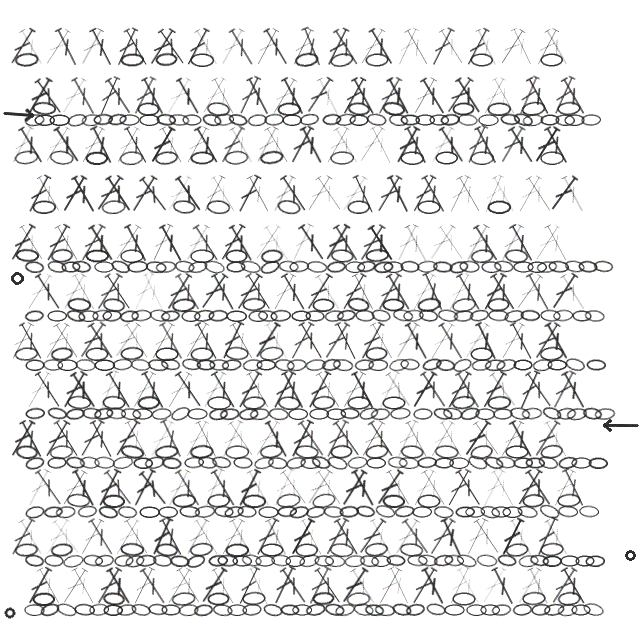chain: (311, 491, 337, 510), (329, 51, 355, 69), (276, 198, 302, 216), (451, 296, 477, 314), (119, 443, 145, 461), (469, 443, 494, 461), (416, 296, 442, 313), (364, 443, 390, 460), (169, 404, 192, 423), (466, 453, 489, 472), (538, 502, 561, 521), (294, 51, 319, 68), (381, 100, 406, 117), (521, 100, 546, 117), (14, 149, 39, 166), (49, 149, 74, 166), (259, 149, 284, 166), (346, 296, 371, 313), (259, 345, 284, 362), (451, 394, 476, 411), (259, 443, 284, 460), (539, 443, 564, 460), (276, 492, 301, 509), (189, 541, 214, 558), (364, 541, 389, 558), (109, 258, 132, 276), (451, 356, 474, 374), (326, 454, 349, 472), (455, 552, 478, 570), (55, 601, 78, 619), (206, 101, 231, 117), (119, 150, 144, 166), (154, 150, 179, 166), (101, 199, 126, 215), (206, 199, 231, 215), (504, 248, 529, 264), (171, 297, 196, 313), (14, 346, 39, 362), (49, 444, 74, 460), (154, 444, 179, 460), (294, 444, 319, 460), (434, 444, 459, 460), (14, 542, 39, 558), (329, 542, 354, 558), (399, 542, 424, 558), (171, 591, 196, 607), (346, 591, 371, 607), (259, 258, 281, 276), (483, 454, 505, 472), (185, 552, 207, 570), (298, 552, 321, 569), (582, 601, 605, 618), (347, 101, 371, 117), (172, 199, 196, 215), (260, 248, 284, 264), (330, 248, 354, 264), (470, 248, 494, 264), (102, 297, 126, 313), (50, 346, 74, 362), (242, 395, 266, 411), (277, 395, 301, 411), (15, 444, 39, 460), (400, 444, 424, 460), (50, 542, 74, 558), (155, 542, 179, 558), (505, 542, 529, 558), (102, 591, 126, 607), (14, 52, 39, 67), (224, 150, 249, 165), (539, 346, 564, 361), (189, 444, 214, 459), (66, 493, 91, 508), (512, 111, 534, 128), (421, 356, 443, 373), (564, 356, 586, 373), (358, 405, 380, 422), (459, 405, 481, 422), (541, 405, 563, 422), (310, 454, 332, 471), (537, 454, 559, 471), (374, 503, 396, 520), (39, 601, 61, 618), (203, 259, 226, 275), (239, 259, 262, 275), (495, 357, 518, 373), (516, 504, 539, 520), (62, 553, 85, 569), (32, 101, 56, 116), (557, 101, 581, 116), (15, 248, 39, 263), (50, 248, 74, 263), (365, 248, 389, 263), (67, 297, 91, 312), (242, 297, 266, 312), (120, 346, 144, 361), (225, 346, 249, 361), (67, 395, 91, 410), (102, 395, 126, 410), (487, 395, 511, 410), (172, 493, 196, 508), (557, 493, 581, 508), (120, 542, 144, 557), (540, 542, 564, 557), (242, 591, 266, 606), (522, 591, 546, 606), (557, 591, 581, 606), (66, 112, 88, 128), (201, 112, 223, 128), (227, 112, 249, 128), (46, 259, 68, 275), (187, 259, 209, 275), (448, 259, 470, 275), (65, 308, 87, 324), (503, 308, 525, 324), (388, 357, 410, 373), (432, 406, 454, 422), (24, 455, 46, 471), (253, 455, 275, 471), (285, 455, 307, 471), (24, 504, 46, 520), (97, 504, 119, 520), (223, 504, 245, 520), (288, 504, 310, 520), (305, 504, 327, 520), (479, 504, 501, 520), (124, 553, 146, 569), (130, 602, 152, 618), (262, 602, 284, 618), (334, 602, 356, 618), (155, 52, 178, 67), (487, 297, 510, 312), (365, 346, 388, 361), (137, 395, 160, 410), (312, 395, 335, 410), (330, 444, 353, 459), (207, 493, 230, 508), (522, 493, 545, 508), (312, 591, 335, 606), (120, 53, 144, 67), (190, 53, 214, 67), (365, 53, 389, 67), (277, 102, 301, 116), (487, 102, 511, 116), (190, 151, 214, 165), (330, 151, 354, 165), (400, 151, 424, 165), (470, 151, 494, 165), (540, 151, 564, 165), (32, 200, 56, 214), (417, 200, 441, 214), (487, 200, 511, 214), (85, 249, 109, 263), (120, 249, 144, 263), (190, 249, 214, 263), (85, 347, 109, 361), (155, 347, 179, 361), (190, 347, 214, 361), (207, 396, 231, 410), (347, 396, 371, 410), (382, 396, 406, 410), (225, 445, 249, 459), (505, 445, 529, 459), (242, 494, 266, 508), (417, 494, 441, 508), (225, 543, 249, 557), (260, 543, 284, 557), (452, 592, 476, 606), (335, 112, 357, 127), (149, 308, 171, 323), (193, 308, 215, 323), (370, 308, 392, 323), (392, 308, 414, 323), (437, 308, 459, 323), (46, 406, 68, 421), (509, 406, 531, 421), (112, 455, 134, 470), (557, 455, 579, 470), (194, 504, 216, 519), (476, 553, 498, 568), (496, 553, 518, 568), (391, 602, 413, 617), (425, 602, 447, 617), (543, 602, 565, 617), (470, 53, 493, 67), (540, 53, 563, 67), (137, 102, 160, 116), (452, 102, 475, 116), (85, 151, 108, 165), (435, 151, 458, 165), (347, 200, 370, 214), (225, 249, 248, 263), (312, 298, 335, 312), (382, 298, 405, 312), (470, 347, 493, 361), (102, 494, 125, 508), (382, 494, 405, 508), (295, 543, 318, 557), (32, 592, 55, 606), (207, 592, 230, 606), (107, 112, 128, 127), (299, 112, 320, 127), (366, 112, 387, 127), (71, 259, 92, 274), (174, 259, 195, 274), (356, 259, 377, 274), (493, 259, 514, 274), (564, 259, 585, 274), (336, 308, 357, 323), (418, 308, 439, 323), (469, 308, 490, 323), (160, 357, 181, 372), (181, 357, 202, 372), (321, 357, 342, 372), (93, 406, 114, 421), (442, 406, 463, 421), (582, 406, 603, 421), (65, 455, 86, 470), (144, 455, 165, 470), (197, 455, 218, 470), (211, 455, 232, 470), (347, 455, 368, 470), (495, 455, 516, 470), (77, 504, 98, 519), (355, 504, 376, 519), (394, 504, 415, 519), (24, 553, 45, 568), (94, 553, 115, 568), (152, 553, 173, 568), (241, 553, 262, 568), (417, 553, 438, 568), (433, 553, 454, 568), (529, 553, 550, 568), (305, 602, 326, 617), (324, 602, 345, 617), (353, 602, 374, 617), (405, 602, 426, 617), (168, 113, 190, 127), (522, 113, 544, 127), (145, 260, 167, 274), (155, 260, 177, 274), (306, 260, 328, 274), (536, 260, 558, 274), (147, 358, 169, 372), (305, 358, 327, 372), (332, 358, 354, 372), (484, 358, 506, 372), (120, 407, 142, 421), (566, 407, 588, 421), (594, 407, 616, 421), (398, 456, 420, 470), (324, 554, 346, 568), (344, 554, 366, 568), (374, 603, 396, 617), (24, 113, 45, 127), (81, 113, 102, 127), (247, 113, 268, 127), (388, 113, 409, 127), (457, 113, 478, 127), (24, 260, 45, 274), (326, 260, 347, 274), (373, 260, 394, 274), (432, 260, 453, 274), (24, 309, 45, 323), (119, 309, 140, 323), (160, 309, 181, 323), (257, 309, 278, 323), (324, 309, 345, 323), (453, 309, 474, 323), (584, 309, 605, 323), (75, 358, 96, 372), (130, 358, 151, 372), (221, 358, 242, 372), (242, 358, 263, 372), (274, 358, 295, 372), (286, 358, 307, 372), (354, 358, 375, 372), (435, 358, 456, 372), (471, 358, 492, 372), (532, 358, 553, 372), (65, 407, 86, 421), (151, 407, 172, 421), (208, 407, 229, 421), (219, 407, 240, 421), (238, 407, 259, 421), (249, 407, 270, 421), (268, 407, 289, 421), (370, 407, 391, 421), (161, 456, 182, 470), (267, 456, 288, 470), (43, 505, 64, 519), (55, 505, 76, 519), (117, 505, 138, 519), (323, 505, 344, 519), (433, 505, 454, 519), (169, 554, 190, 568), (359, 554, 380, 568), (518, 554, 539, 568), (116, 603, 137, 617), (178, 603, 199, 617), (193, 603, 214, 617), (212, 603, 233, 617), (364, 603, 385, 617), (491, 603, 512, 617), (557, 603, 578, 617), (521, 407, 543, 420), (135, 554, 157, 567), (127, 260, 148, 273), (278, 260, 299, 273), (417, 260, 438, 273), (459, 260, 480, 273), (548, 260, 569, 273), (593, 260, 614, 273), (131, 309, 152, 322), (270, 309, 291, 322), (403, 309, 424, 322), (488, 309, 509, 322), (540, 309, 561, 322), (112, 358, 133, 371), (390, 407, 411, 420), (556, 407, 577, 420), (79, 456, 100, 469), (94, 456, 115, 469), (387, 456, 408, 469), (179, 505, 200, 518), (217, 554, 238, 567), (407, 554, 428, 567), (74, 603, 95, 616), (512, 603, 533, 616), (93, 113, 113, 126), (156, 113, 176, 126), (214, 113, 234, 126), (264, 113, 284, 126), (322, 113, 342, 126), (440, 113, 460, 126), (500, 113, 520, 126), (289, 260, 309, 273), (400, 260, 420, 273), (578, 260, 598, 273), (92, 309, 112, 322), (102, 309, 122, 322), (208, 309, 228, 322), (355, 309, 375, 322), (520, 309, 540, 322), (553, 309, 573, 322), (400, 358, 420, 371), (25, 407, 45, 420), (82, 407, 102, 420), (106, 407, 126, 420), (340, 407, 360, 420), (47, 456, 67, 469), (184, 456, 204, 469), (233, 456, 253, 469), (417, 456, 437, 469), (214, 505, 234, 518), (237, 505, 257, 518), (277, 505, 297, 518), (339, 505, 359, 518), (558, 505, 578, 518), (579, 505, 599, 518), (44, 554, 64, 567), (83, 554, 103, 567), (114, 554, 134, 567), (208, 554, 228, 567), (271, 554, 291, 567), (386, 554, 406, 567), (444, 554, 464, 567), (89, 603, 109, 616), (148, 603, 168, 616), (242, 603, 262, 616), (531, 603, 551, 616), (34, 114, 55, 126), (49, 114, 70, 126), (119, 114, 140, 126), (139, 114, 160, 126), (478, 114, 499, 126), (564, 114, 585, 126), (383, 261, 404, 273), (481, 261, 502, 273), (513, 261, 534, 273), (78, 310, 99, 322), (226, 310, 247, 322), (57, 359, 78, 371), (94, 359, 115, 371), (132, 408, 153, 420), (187, 408, 208, 420), (300, 457, 321, 469), (571, 457, 592, 469), (139, 506, 160, 518), (258, 506, 279, 518), (502, 506, 523, 518), (24, 604, 45, 616), (444, 604, 465, 616), (466, 604, 487, 616), (182, 114, 202, 126), (282, 114, 302, 126), (349, 114, 369, 126), (400, 114, 420, 126), (415, 114, 435, 126), (429, 114, 449, 126), (540, 114, 560, 126), (555, 114, 575, 126), (581, 114, 601, 126), (61, 261, 81, 273), (94, 261, 114, 273), (226, 261, 246, 273), (345, 261, 365, 273), (527, 261, 547, 273), (47, 310, 67, 322), (181, 310, 201, 322), (248, 310, 268, 322), (291, 310, 311, 322), (305, 310, 325, 322), (572, 310, 592, 322), (25, 359, 45, 371), (43, 359, 63, 371), (196, 359, 216, 371), (209, 359, 229, 371), (256, 359, 276, 371), (368, 359, 388, 371), (513, 359, 533, 371), (547, 359, 567, 371), (586, 359, 606, 371), (288, 408, 308, 420), (309, 408, 329, 420), (326, 408, 346, 420), (413, 408, 433, 420), (475, 408, 495, 420), (493, 408, 513, 420), (133, 457, 153, 469), (366, 457, 386, 469), (434, 457, 454, 469), (449, 457, 469, 469), (513, 457, 533, 469), (525, 457, 545, 469), (588, 457, 608, 469), (158, 506, 178, 518), (412, 506, 432, 518), (455, 506, 475, 518), (465, 506, 485, 518), (491, 506, 511, 518), (232, 555, 252, 567), (255, 555, 275, 567), (285, 555, 305, 567), (314, 555, 334, 567), (371, 555, 391, 567), (542, 555, 562, 567), (560, 555, 580, 567), (575, 555, 595, 567), (585, 555, 605, 567), (103, 604, 123, 616), (161, 604, 181, 616), (227, 604, 247, 616), (280, 604, 300, 616), (292, 604, 312, 616), (480, 604, 500, 616), (571, 604, 591, 616)
double: (546, 173, 581, 214), (196, 271, 231, 312), (486, 369, 521, 410), (469, 418, 504, 459), (101, 467, 136, 508), (49, 516, 84, 557), (354, 516, 389, 557), (399, 516, 434, 557), (40, 26, 74, 68), (102, 75, 136, 117), (337, 173, 371, 215), (522, 173, 556, 215), (260, 222, 294, 264), (57, 565, 91, 607), (136, 468, 171, 508), (155, 26, 189, 67), (302, 75, 336, 116), (442, 75, 476, 116), (50, 124, 84, 165), (92, 173, 126, 214), (102, 173, 136, 214), (172, 173, 206, 214), (277, 173, 311, 214), (312, 173, 346, 214), (110, 222, 144, 263), (250, 222, 284, 263), (295, 222, 329, 263), (425, 222, 459, 263), (547, 271, 581, 312), (75, 320, 109, 361), (110, 320, 144, 361), (172, 369, 206, 410), (382, 369, 416, 410), (417, 369, 451, 410), (522, 369, 556, 410), (295, 418, 329, 459), (330, 418, 364, 459), (460, 418, 494, 459), (32, 467, 66, 508), (277, 467, 311, 508), (302, 467, 336, 508), (312, 467, 346, 508), (372, 467, 406, 508), (522, 467, 556, 508), (470, 516, 504, 557), (277, 565, 311, 606), (337, 565, 371, 606), (145, 26, 178, 68), (330, 26, 363, 68), (495, 26, 528, 68), (57, 75, 90, 117), (162, 75, 195, 117), (267, 75, 300, 117), (417, 75, 450, 117), (15, 124, 48, 166), (330, 124, 363, 166), (505, 124, 538, 166), (530, 124, 563, 166), (127, 173, 160, 215), (162, 173, 195, 215), (207, 173, 240, 215), (372, 173, 405, 215), (85, 222, 118, 264), (190, 222, 223, 264), (330, 222, 363, 264), (355, 222, 388, 264), (365, 222, 398, 264), (470, 222, 503, 264), (530, 222, 563, 264), (22, 271, 55, 313), (92, 271, 125, 313), (162, 271, 195, 313), (172, 271, 205, 313), (232, 271, 265, 313), (302, 271, 335, 313), (312, 271, 345, 313), (487, 271, 520, 313), (557, 271, 590, 313), (40, 320, 73, 362), (50, 320, 83, 362), (85, 320, 118, 362), (320, 320, 353, 362), (425, 320, 458, 362), (435, 320, 468, 362), (460, 320, 493, 362), (530, 320, 563, 362), (67, 369, 100, 411), (162, 369, 195, 411), (312, 369, 345, 411), (452, 369, 485, 411), (40, 418, 73, 460), (145, 418, 178, 460), (365, 418, 398, 460), (425, 418, 458, 460), (530, 418, 563, 460), (57, 467, 90, 509), (172, 467, 205, 509), (337, 467, 370, 509), (15, 516, 48, 558), (85, 516, 118, 558), (110, 516, 143, 558), (190, 516, 223, 558), (390, 516, 423, 558), (425, 516, 458, 558), (92, 565, 125, 607), (137, 565, 170, 607), (162, 565, 195, 607), (347, 565, 380, 607), (407, 565, 440, 607), (477, 565, 510, 607), (547, 565, 580, 607), (32, 76, 66, 116), (137, 174, 171, 214), (512, 272, 546, 312), (452, 75, 485, 116), (355, 124, 388, 165), (435, 222, 468, 263), (32, 271, 65, 312), (102, 271, 135, 312), (32, 369, 65, 410), (225, 418, 258, 459), (197, 565, 230, 606), (312, 565, 345, 606), (16, 26, 48, 68), (191, 26, 223, 68), (216, 26, 248, 68), (226, 26, 258, 68), (401, 26, 433, 68), (541, 26, 573, 68), (23, 75, 55, 117), (68, 75, 100, 117), (373, 75, 405, 117), (408, 75, 440, 117), (488, 75, 520, 117), (558, 75, 590, 117), (76, 124, 108, 166), (111, 124, 143, 166), (146, 124, 178, 166), (191, 124, 223, 166), (216, 124, 248, 166), (226, 124, 258, 166), (261, 124, 293, 166), (321, 124, 353, 166), (391, 124, 423, 166), (426, 124, 458, 166), (496, 124, 528, 166), (541, 124, 573, 166), (58, 173, 90, 215), (68, 173, 100, 215), (418, 173, 450, 215), (453, 173, 485, 215), (488, 173, 520, 215), (513, 173, 545, 215), (41, 222, 73, 264), (51, 222, 83, 264), (76, 222, 108, 264), (181, 222, 213, 264), (461, 222, 493, 264), (506, 222, 538, 264), (58, 271, 90, 313), (68, 271, 100, 313), (278, 271, 310, 313), (373, 271, 405, 313), (383, 271, 415, 313), (453, 271, 485, 313), (146, 320, 178, 362), (156, 320, 188, 362), (226, 320, 258, 362), (261, 320, 293, 362), (366, 320, 398, 362), (391, 320, 423, 362), (496, 320, 528, 362), (541, 320, 573, 362), (58, 369, 90, 411), (103, 369, 135, 411), (198, 369, 230, 411), (208, 369, 240, 411), (233, 369, 265, 411), (408, 369, 440, 411), (558, 369, 590, 411), (356, 418, 388, 460), (208, 467, 240, 509), (243, 467, 275, 509), (418, 467, 450, 509), (6, 516, 38, 558), (41, 516, 73, 558), (181, 516, 213, 558), (216, 516, 248, 558), (286, 516, 318, 558), (331, 516, 363, 558), (541, 516, 573, 558), (23, 565, 55, 607), (33, 565, 65, 607), (103, 565, 135, 607), (373, 565, 405, 607), (453, 565, 485, 607), (513, 565, 545, 607), (558, 565, 590, 607), (6, 26, 38, 67), (356, 26, 388, 67), (436, 26, 468, 67), (41, 124, 73, 165), (436, 124, 468, 165), (33, 173, 65, 214), (303, 173, 335, 214), (6, 222, 38, 263), (16, 222, 48, 263), (216, 222, 248, 263), (321, 222, 353, 263), (243, 271, 275, 312), (121, 320, 153, 361), (251, 320, 283, 361), (6, 418, 38, 459), (51, 418, 83, 459), (111, 418, 143, 459), (251, 418, 283, 459), (383, 467, 415, 508), (453, 467, 485, 508), (513, 467, 545, 508), (121, 516, 153, 557), (173, 565, 205, 606), (76, 26, 107, 68), (86, 26, 117, 68), (121, 26, 152, 68), (251, 26, 282, 68), (531, 26, 562, 68), (138, 75, 169, 117), (173, 75, 204, 117), (208, 75, 239, 117), (243, 75, 274, 117), (278, 75, 309, 117), (313, 75, 344, 117), (338, 75, 369, 117), (348, 75, 379, 117), (383, 75, 414, 117), (478, 75, 509, 117), (523, 75, 554, 117), (121, 124, 152, 166), (156, 124, 187, 166), (181, 124, 212, 166), (251, 124, 282, 166), (286, 124, 317, 166), (401, 124, 432, 166), (471, 124, 502, 166), (23, 173, 54, 215), (233, 173, 264, 215), (243, 173, 274, 215), (268, 173, 299, 215), (408, 173, 439, 215), (558, 173, 589, 215), (121, 222, 152, 264), (156, 222, 187, 264), (226, 222, 257, 264), (401, 222, 432, 264), (496, 222, 527, 264), (541, 222, 572, 264), (208, 271, 239, 313), (268, 271, 299, 313), (338, 271, 369, 313), (348, 271, 379, 313), (408, 271, 439, 313), (443, 271, 474, 313), (523, 271, 554, 313), (6, 320, 37, 362), (16, 320, 47, 362), (286, 320, 317, 362), (356, 320, 387, 362), (23, 369, 54, 411), (128, 369, 159, 411), (138, 369, 169, 411), (243, 369, 274, 411), (268, 369, 299, 411), (278, 369, 309, 411), (303, 369, 334, 411), (338, 369, 369, 411), (348, 369, 379, 411), (443, 369, 474, 411), (478, 369, 509, 411), (548, 369, 579, 411), (16, 418, 47, 460), (121, 418, 152, 460), (181, 418, 212, 460), (286, 418, 317, 460), (321, 418, 352, 460), (436, 418, 467, 460), (496, 418, 527, 460), (506, 418, 537, 460), (541, 418, 572, 460), (23, 467, 54, 509), (93, 467, 124, 509), (163, 467, 194, 509), (233, 467, 264, 509), (348, 467, 379, 509), (408, 467, 439, 509), (443, 467, 474, 509), (478, 467, 509, 509), (488, 467, 519, 509), (548, 467, 579, 509), (76, 516, 107, 558), (156, 516, 187, 558), (226, 516, 257, 558), (251, 516, 282, 558), (321, 516, 352, 558), (366, 516, 397, 558), (506, 516, 537, 558), (68, 565, 99, 607), (208, 565, 239, 607), (418, 565, 449, 607), (488, 565, 519, 607), (392, 25, 422, 68), (507, 25, 537, 68), (234, 74, 264, 117), (287, 221, 317, 264), (129, 270, 159, 313), (217, 319, 247, 362), (157, 417, 187, 460), (392, 417, 422, 460), (559, 466, 589, 509), (269, 564, 299, 607), (384, 564, 414, 607), (444, 564, 474, 607), (261, 26, 292, 67), (366, 26, 397, 67), (198, 75, 229, 116), (181, 320, 212, 361), (296, 320, 327, 361), (76, 418, 107, 459), (52, 26, 82, 68), (182, 26, 212, 68), (287, 26, 317, 68), (322, 26, 352, 68), (427, 26, 457, 68), (462, 26, 492, 68), (472, 26, 502, 68), (129, 75, 159, 117), (7, 124, 37, 166), (87, 124, 117, 166), (297, 124, 327, 166), (444, 173, 474, 215), (392, 222, 422, 264), (139, 271, 169, 313), (479, 271, 509, 313), (192, 320, 222, 362), (402, 320, 432, 362), (507, 320, 537, 362), (374, 369, 404, 411), (87, 418, 117, 460), (192, 418, 222, 460), (217, 418, 247, 460), (262, 418, 292, 460), (402, 418, 432, 460), (69, 467, 99, 509), (129, 467, 159, 509), (262, 516, 292, 558), (297, 516, 327, 558), (497, 516, 527, 558), (304, 565, 334, 607), (524, 565, 554, 607), (514, 74, 543, 117), (549, 74, 578, 117), (462, 123, 491, 166), (147, 221, 176, 264), (419, 270, 448, 313), (269, 466, 298, 509), (147, 515, 176, 558), (532, 515, 561, 558), (112, 26, 141, 68), (367, 124, 396, 166), (199, 173, 228, 215), (384, 173, 413, 215), (332, 320, 361, 362), (472, 320, 501, 362), (462, 516, 491, 558), (129, 565, 158, 607), (234, 565, 263, 607), (298, 25, 326, 68), (95, 368, 123, 411), (200, 466, 228, 509), (95, 75, 123, 117), (350, 173, 378, 215), (515, 369, 543, 411), (438, 516, 466, 558), (245, 565, 273, 607), (480, 173, 507, 215)
noise: (600, 418, 639, 433), (2, 107, 36, 122), (9, 270, 26, 287), (2, 605, 17, 620), (624, 549, 636, 561)
